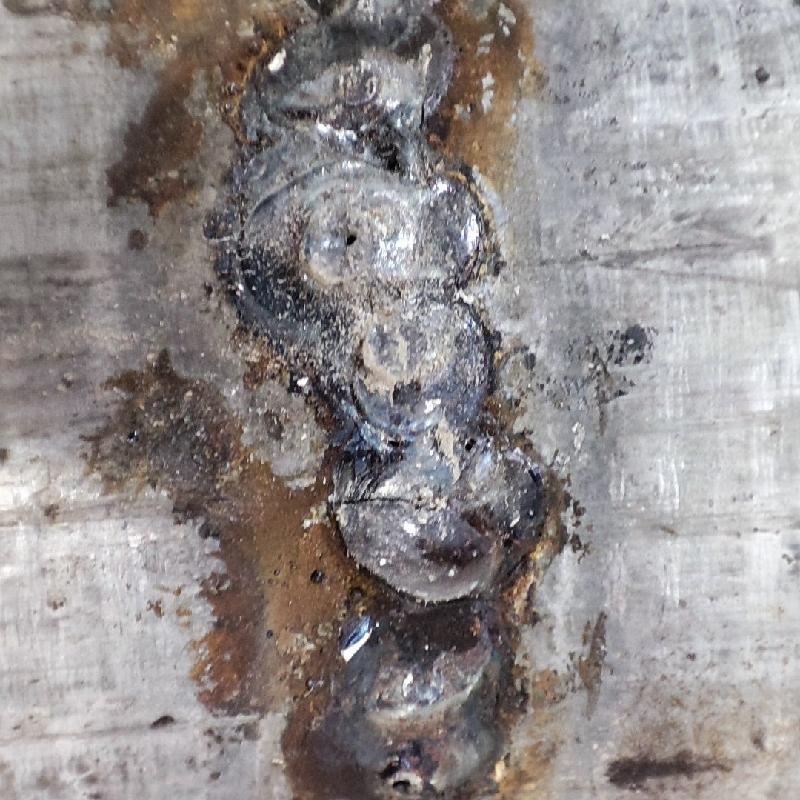Not_fully_soldered: (223, 2, 528, 798)
Surface_pores: (330, 218, 383, 265)
